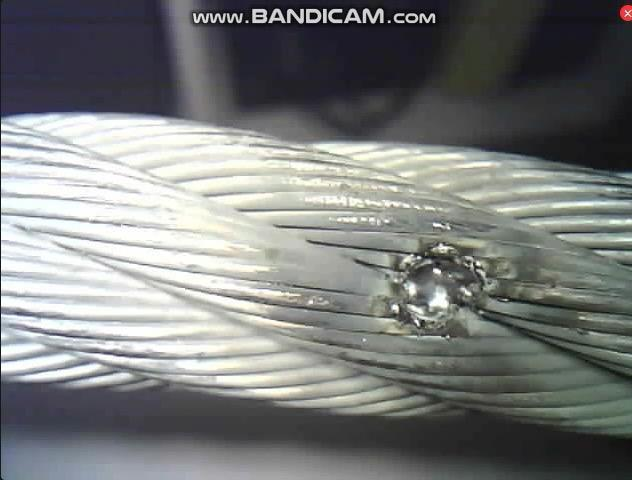thunderbolt: (344, 213, 512, 356)
